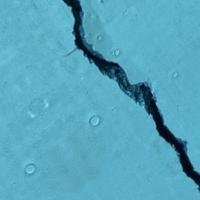crack: (59, 0, 199, 191)
